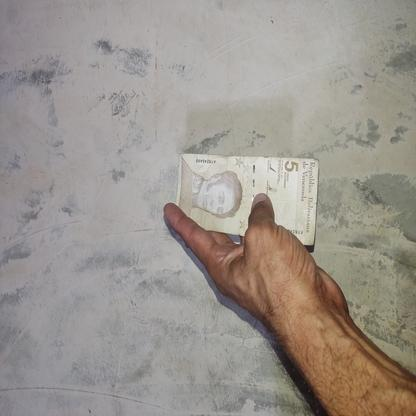vef_front: (175, 152, 320, 246)
